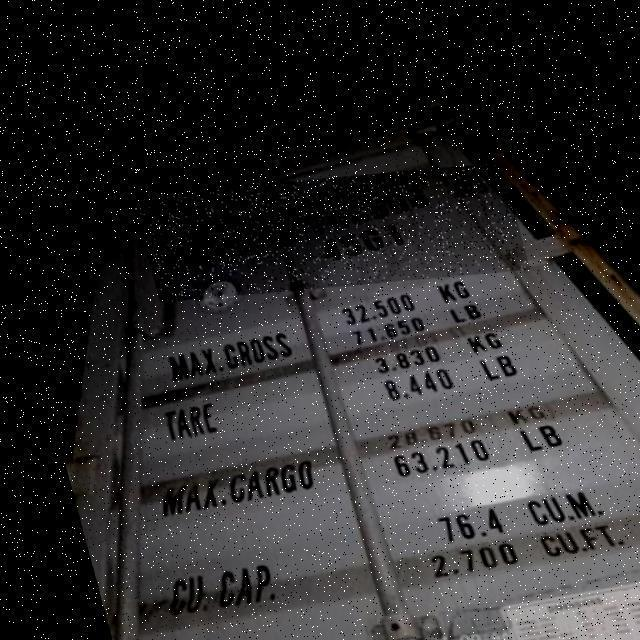container_number_h: (122, 126, 531, 326)
